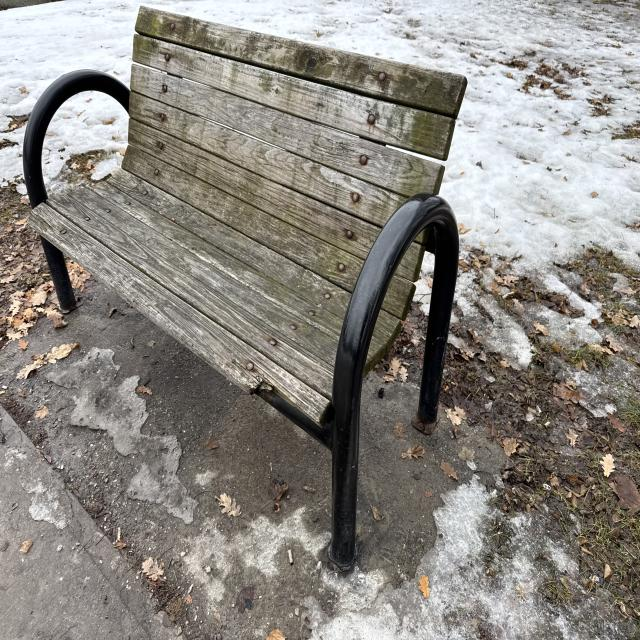Bench: (212, 46, 475, 539), (18, 6, 376, 359)
